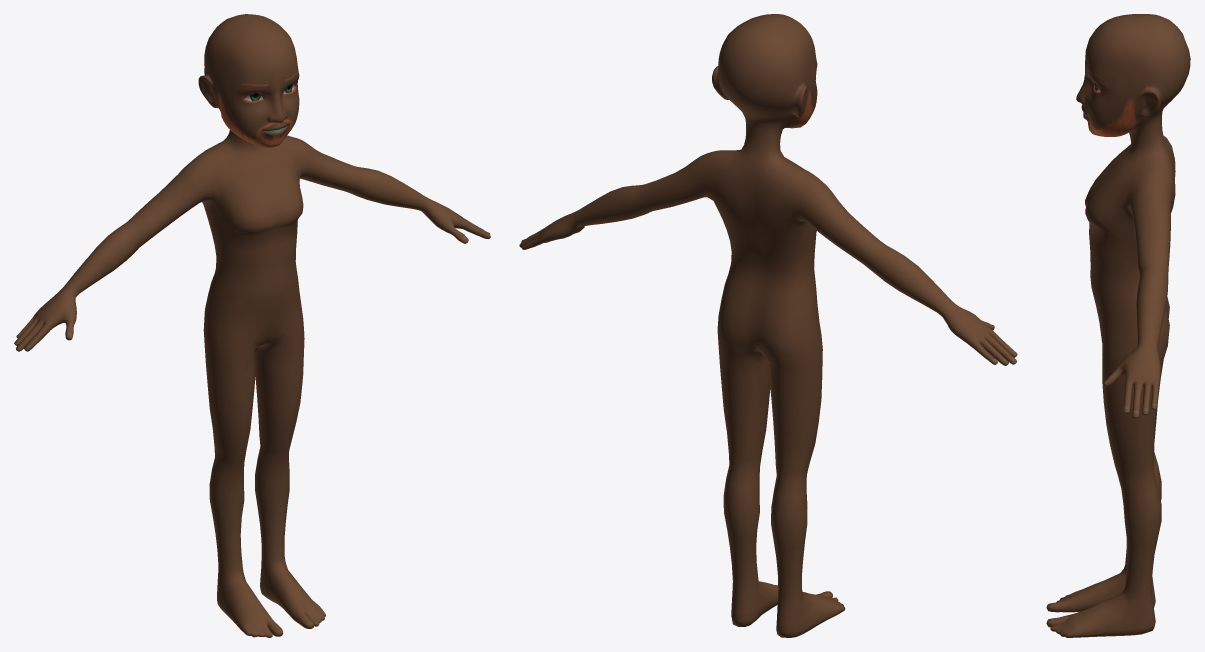
Rendered from frame_0093.glb.
3 views of the same model, side by side, from view 1: azimuth 30°, elevation 25°; view 2: azimuth 150°, elevation 25°; view 3: azimuth 270°, elevation 25° (orthographic). The views are drawn at different scales.
Visible parts, largest first — view 1: frame_0093_head_geo; view 2: frame_0093_head_geo; view 3: frame_0093_head_geo.
Boxes of the visible parts, left/top/right/bottom form: frame_0093_head_geo: left=14, top=14, right=490, bottom=637; frame_0093_head_geo: left=519, top=14, right=1017, bottom=637; frame_0093_head_geo: left=1046, top=14, right=1190, bottom=637.
Size of the model in its own units: 1.28 by 1.5 by 0.3253.
3 materials, 3 textured.
